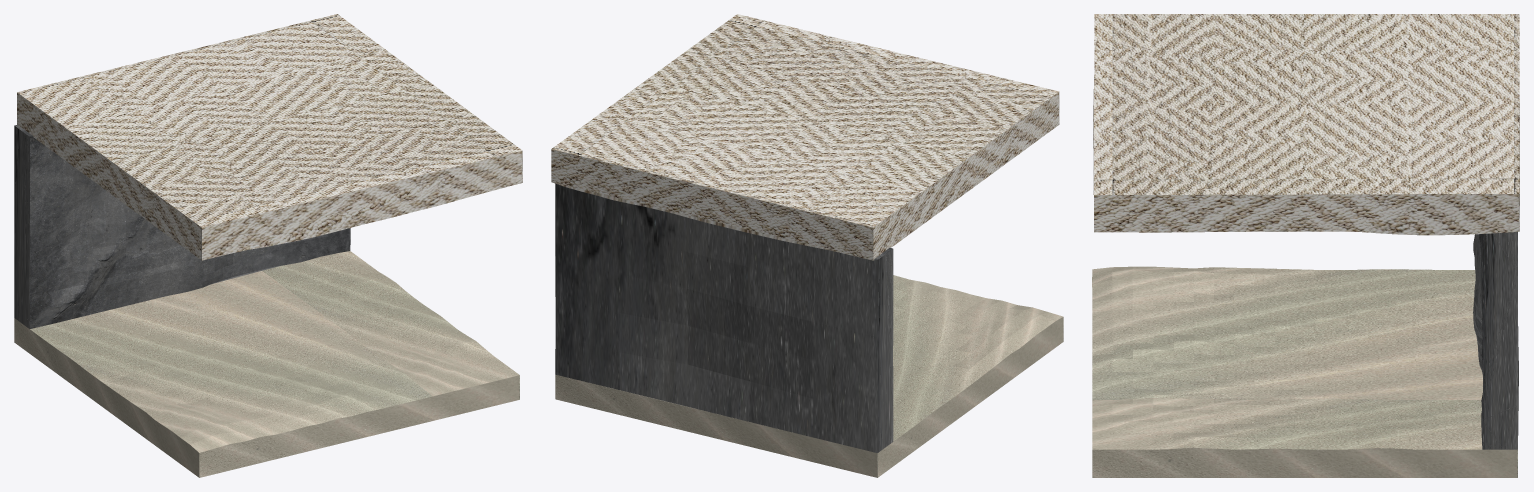
File: StoneBeach.glb
3 renders of one model, left to right at view 1: azimuth 30°, elevation 25°; view 2: azimuth 150°, elevation 25°; view 3: azimuth 270°, elevation 25°, orthographic. The views are drawn at different scales.
Parts seen in each view (by area): view 1: T-Corridor.016; view 2: T-Corridor.016; view 3: T-Corridor.016.
Boxes of the visible parts, box(x1,y1,x2,y2) form: T-Corridor.016: box(14, 14, 522, 477); T-Corridor.016: box(551, 14, 1063, 477); T-Corridor.016: box(1092, 14, 1519, 477).
Size of the model in its own units: 6.08 by 4.45 by 6.03.
Materials: 3 (3 with a texture image).
